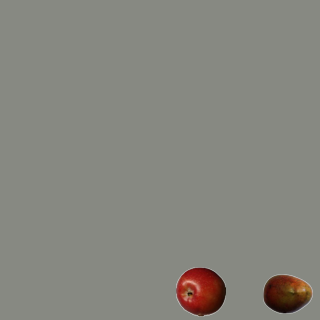Apple Braeburn: (175, 266, 225, 316)
Mango Red: (262, 268, 312, 318)
